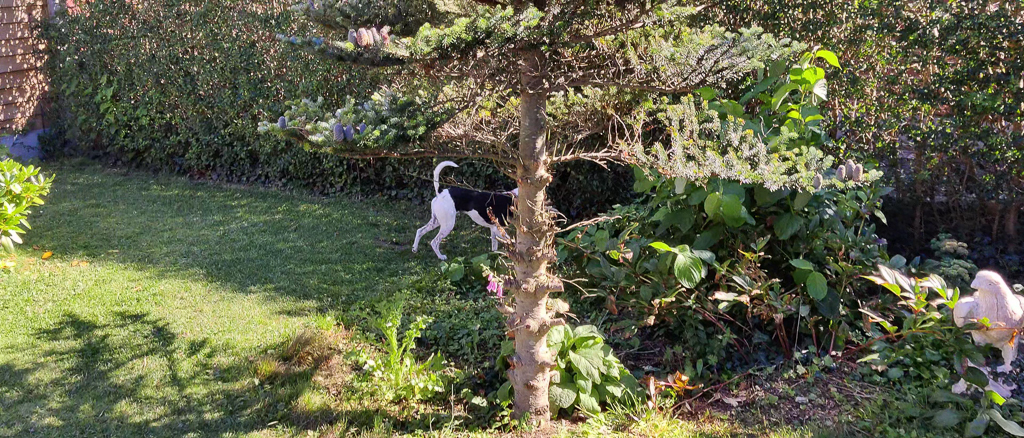Dog: (399, 152, 540, 261)
Eagle: (938, 268, 1024, 395)
